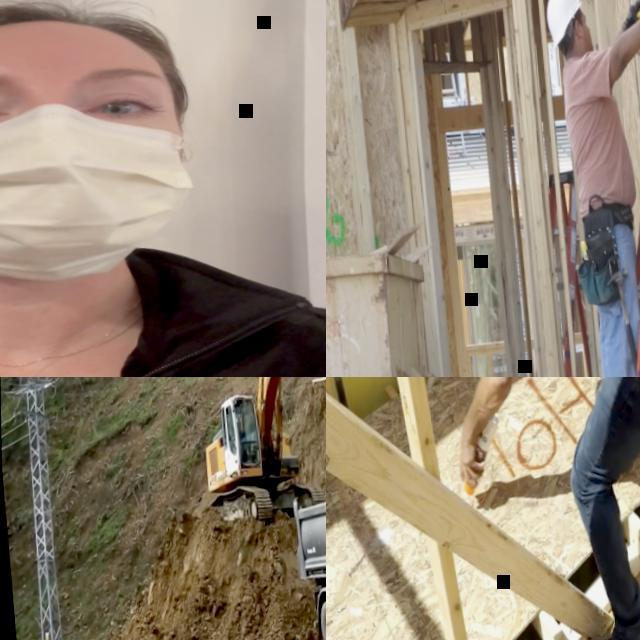helmet: (543, 0, 584, 50)
